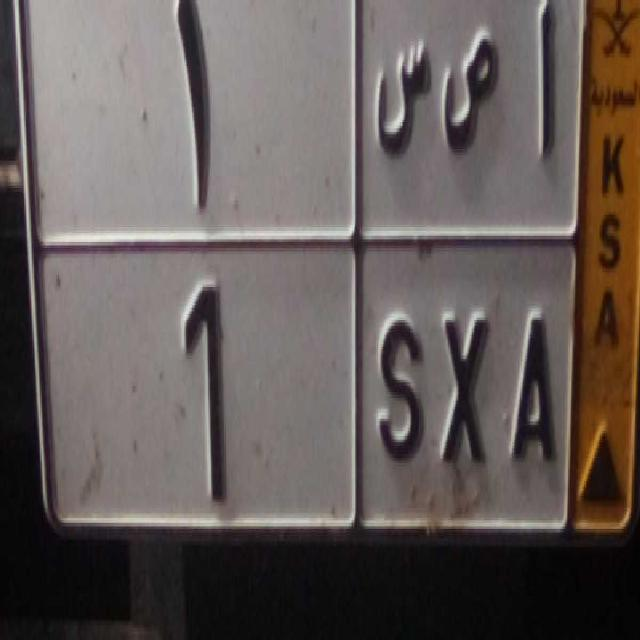license_plate: (72, 236, 571, 556)
